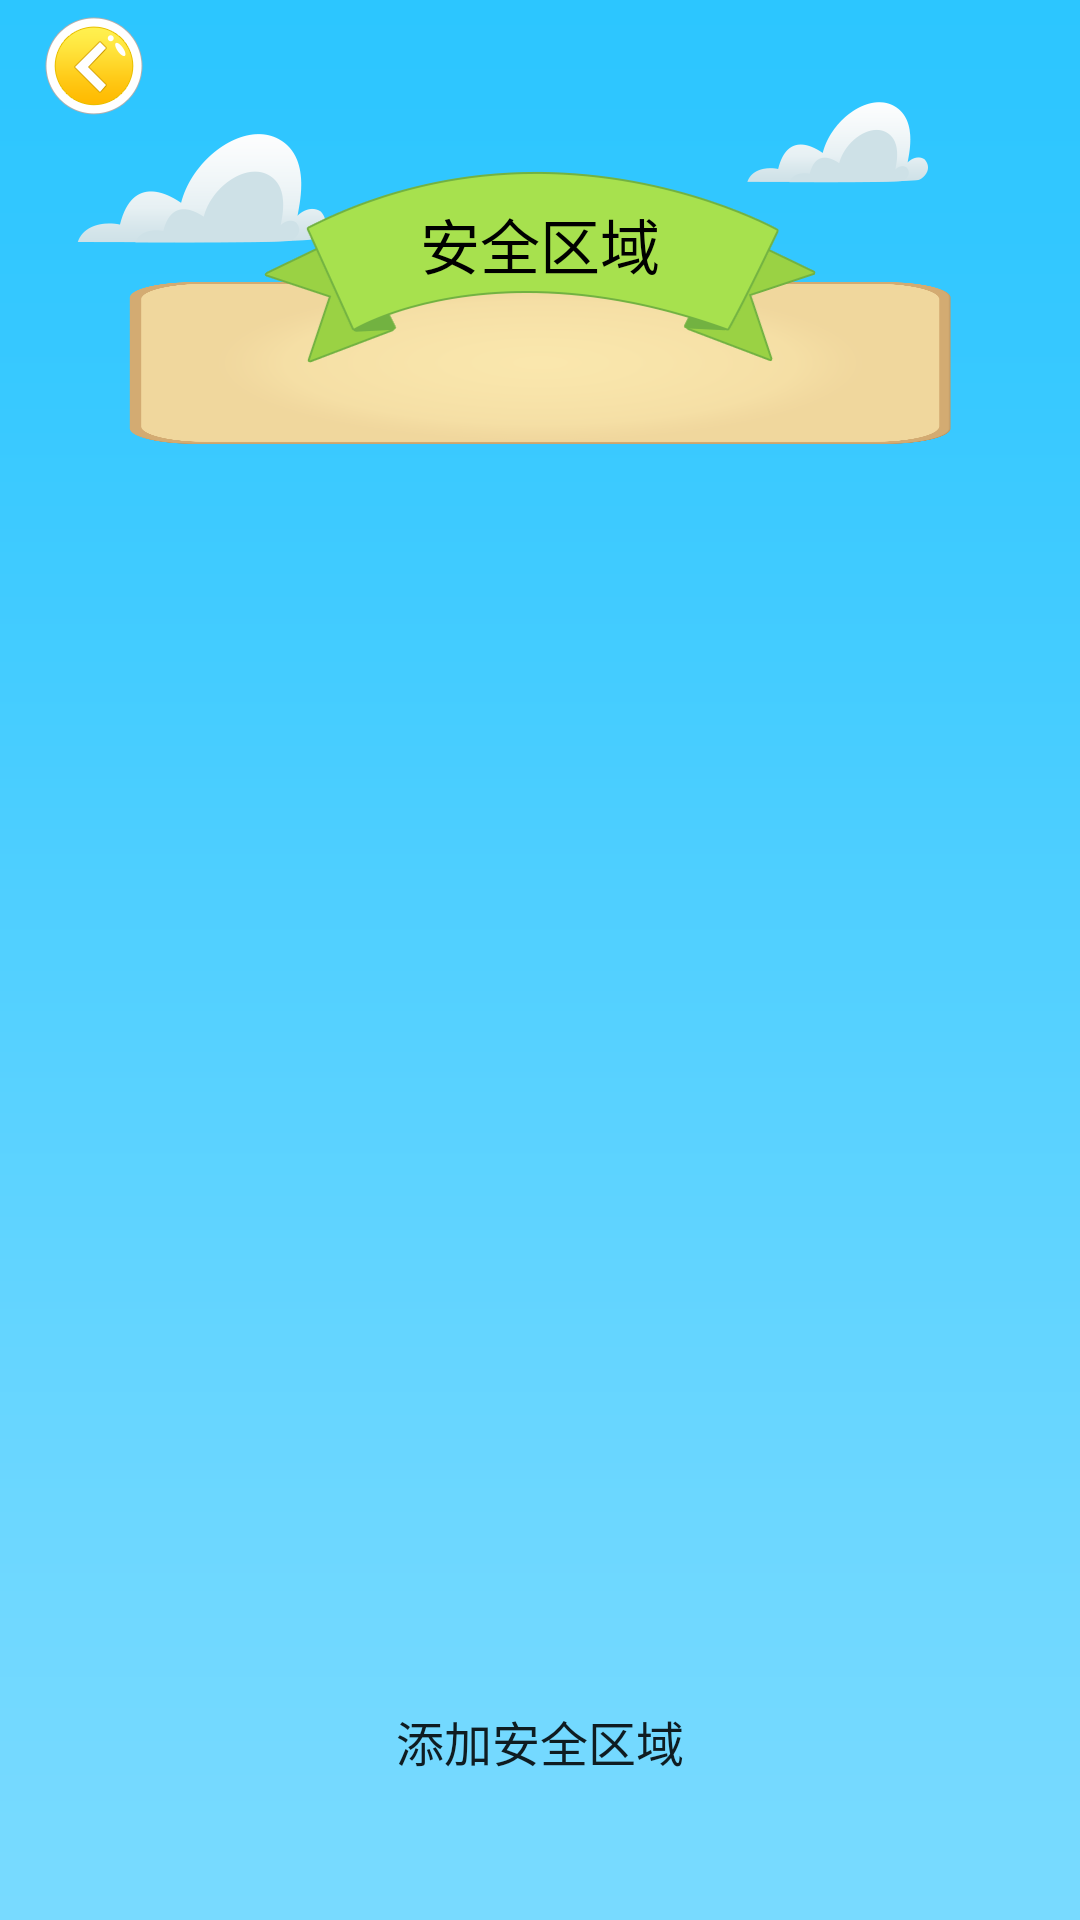

Named icons in this screenshot (1080 × 1920) and their bounding boxes, (x1, y1, x2, y2):
back: (45, 17, 143, 115)
